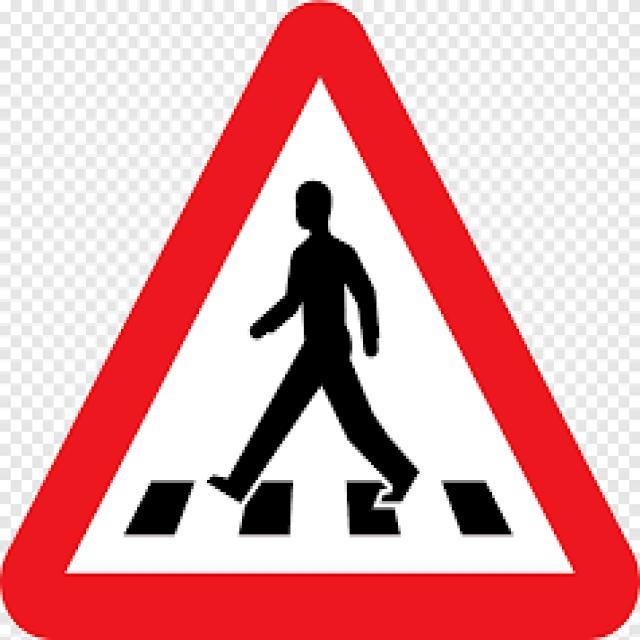Attention-Passage-Pieton: (34, 26, 604, 614)
